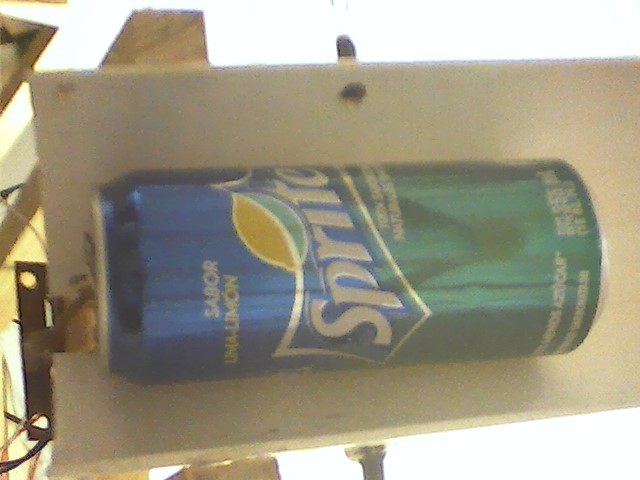lata: (83, 153, 615, 385)
